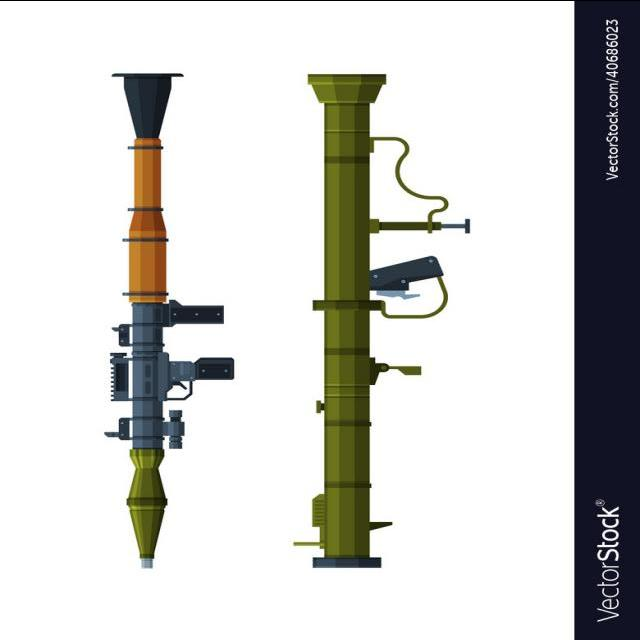rocket launcher: (289, 66, 481, 573), (101, 71, 241, 576)
